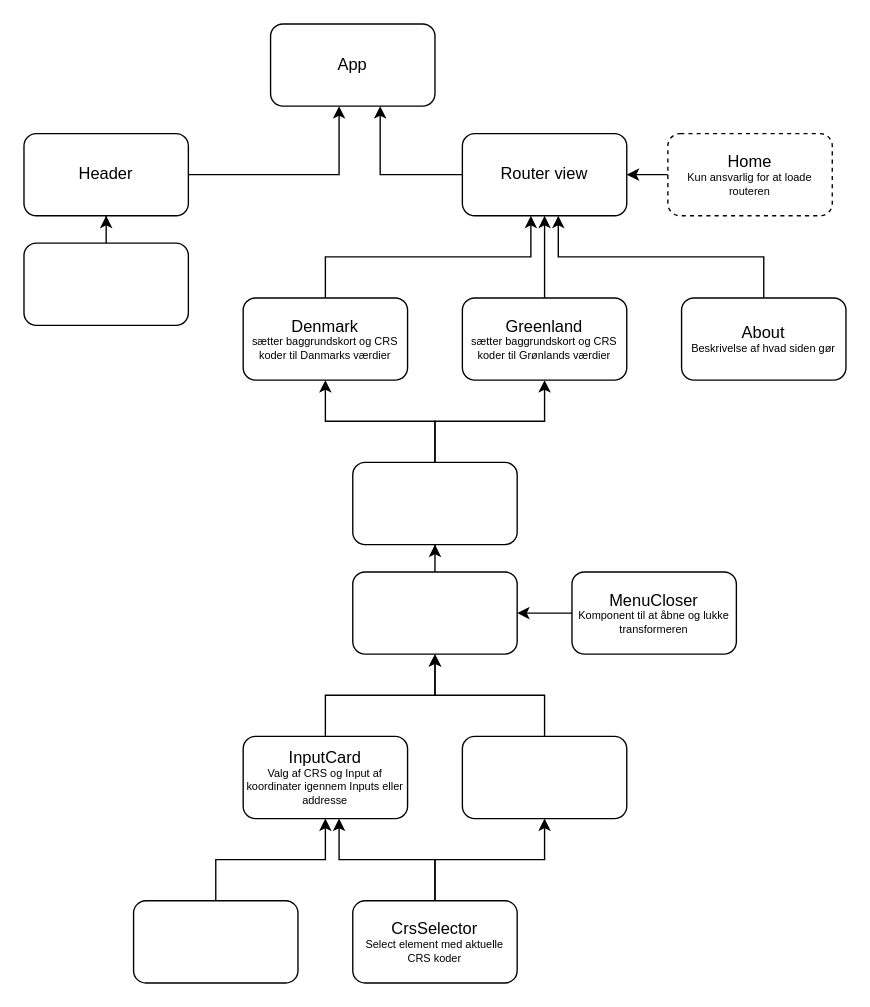
Some shapes in this 870 by 1007 pixel diagram are drawn without their labels. Here are the shapes that lost their labels. From the top down, the box of each, then its label:
(23, 242, 188, 325): Brand Statisk element m. logo og navn
(351, 461, 517, 545): Map Baggrundskort m. tilhørende funktionalitet
(351, 571, 517, 654): Koordinat transformation Transformationsfunktionalitet
(461, 735, 627, 819): OutputCard Valg af CRS og output koordinater
(132, 899, 298, 983): CoordinateInputField 1-3 inputfelter afhængig af inputtets format
